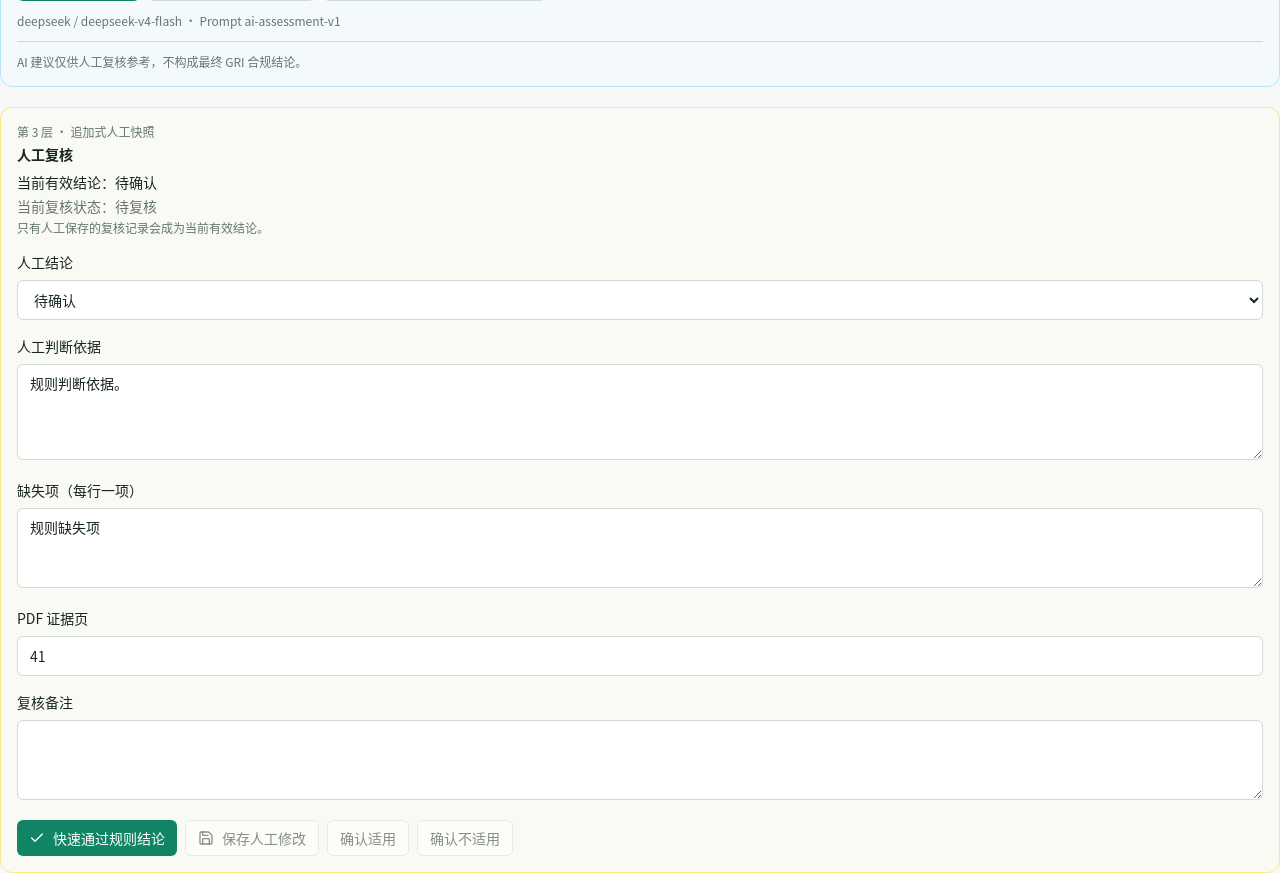
Test: ReviewEditor › does not send an invalid evidence page list
This screenshot has width=1280, height=873.
(page scrolled)
Replace the text in the field labelled "PDF 证据页" with "41, abc" at (640, 656), box [17, 636, 1263, 676]
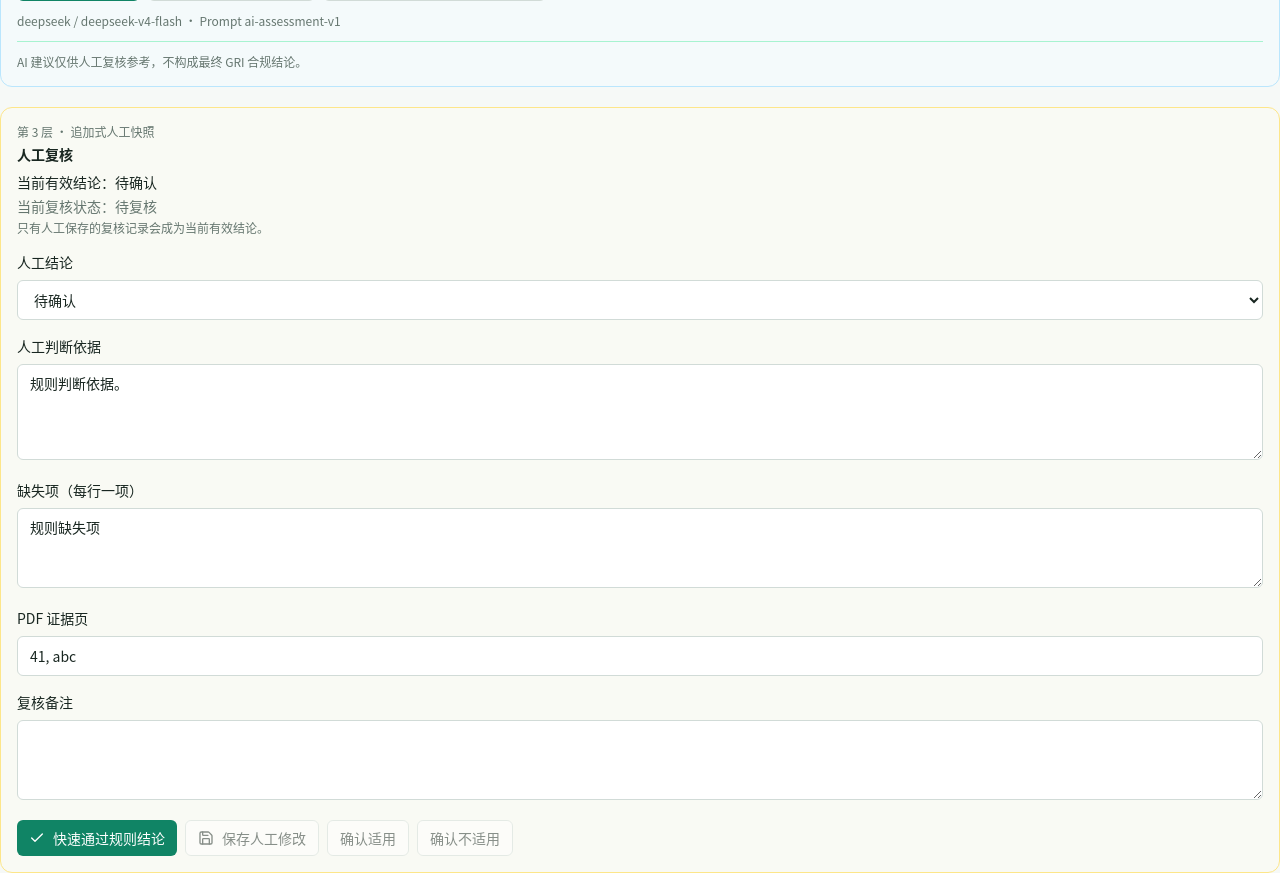
Type "人工修改" into the text box labelled "复核备注" at (640, 760), box [17, 720, 1263, 800]
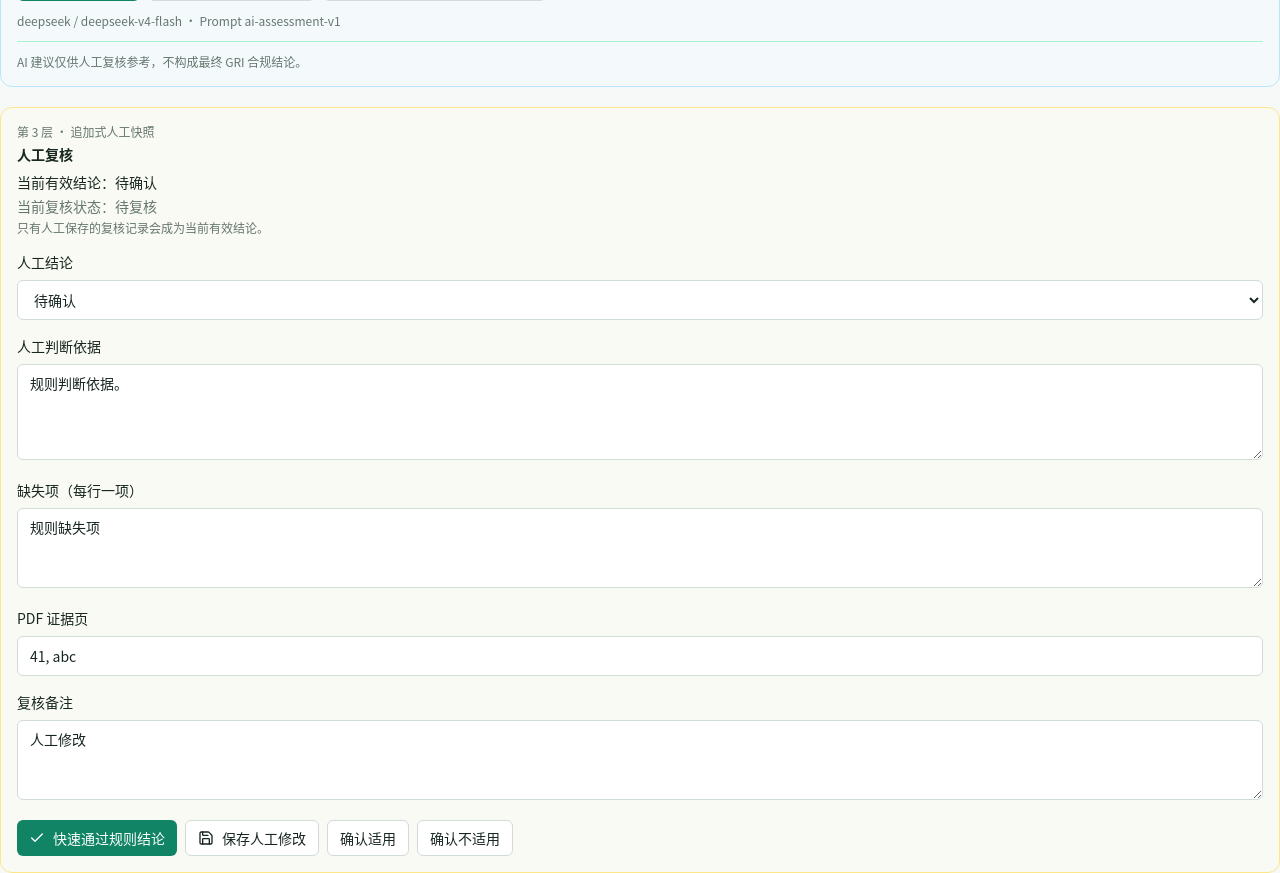
Click the button "保存人工修改" at (252, 838), box [185, 820, 319, 856]
(page scrolled)
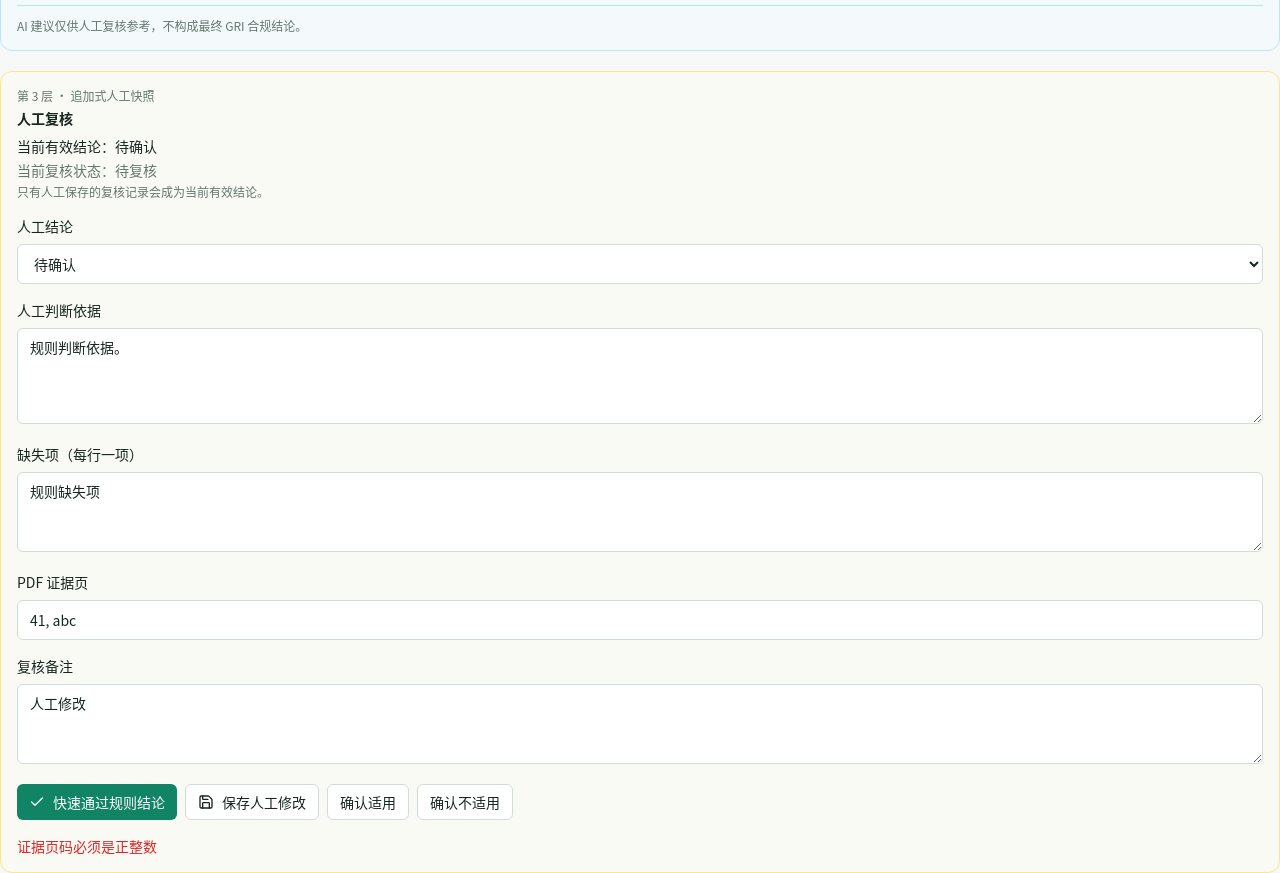
expect the text "证据页码必须是正整数" is shown: met, box [17, 836, 157, 856]
